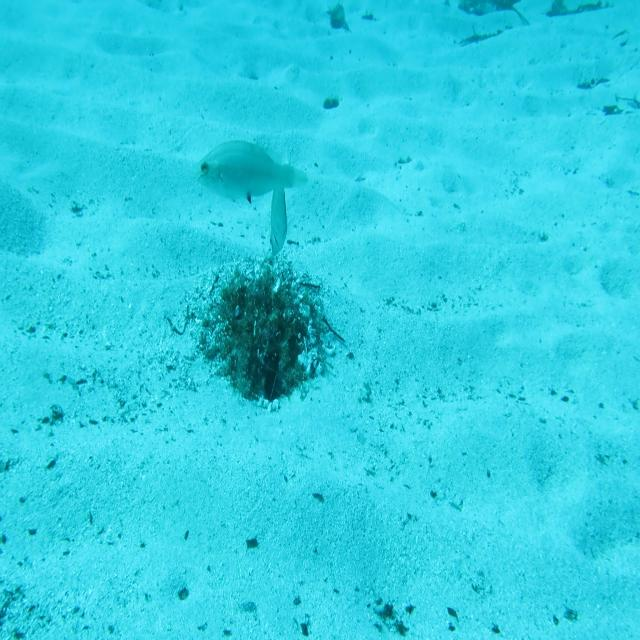H_DOWN: (257, 125, 291, 261)
female: (189, 130, 305, 222)
nest: (186, 257, 338, 415)
